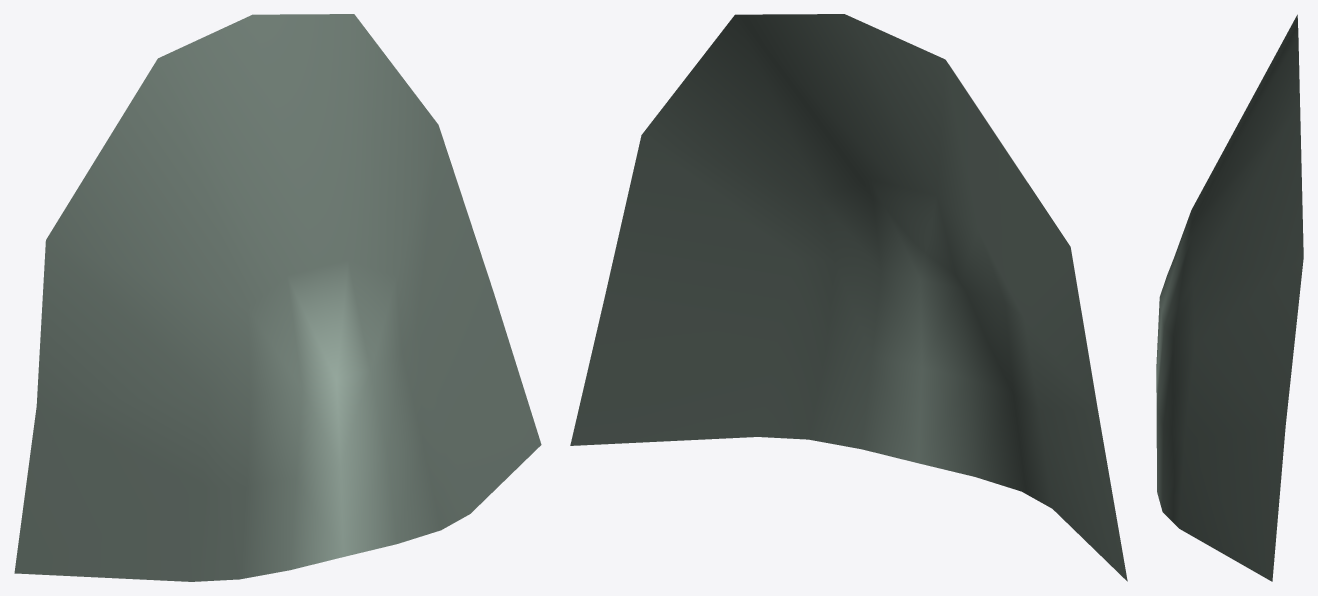
Rendered from Swamp_BarTip.glb.
The picture shows the model from 3 angles, left to right: view 1: azimuth 30°, elevation 25°; view 2: azimuth 150°, elevation 25°; view 3: azimuth 270°, elevation 25°; orthographic projection. The views are drawn at different scales.
Visible parts, largest first — view 1: MeshNode_0; view 2: MeshNode_0; view 3: MeshNode_0.
Boxes of the visible parts, left/top/right/bottom form: MeshNode_0: left=14, top=14, right=541, bottom=581; MeshNode_0: left=570, top=14, right=1127, bottom=581; MeshNode_0: left=1156, top=14, right=1303, bottom=581.
Bounding box in the file's own units: 102 × 89.73 × 28.06.
